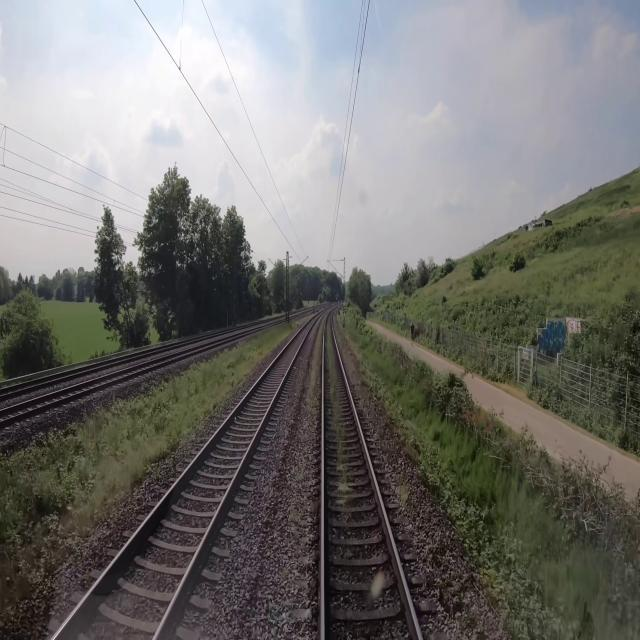Plant: (333, 307, 393, 461), (324, 308, 357, 507), (303, 311, 327, 417), (393, 466, 415, 512)
